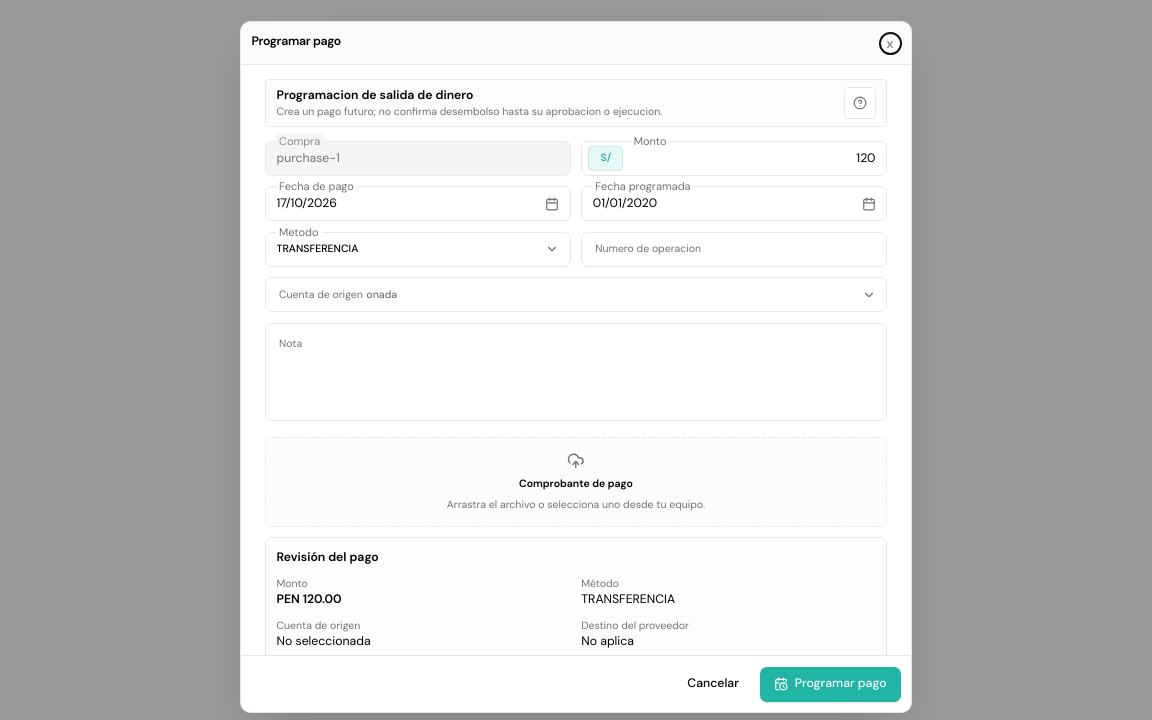
PaymentFormModal › requires a future scheduled date when scheduling a payment
Click the button "Programar pago" at (830, 684), box [760,666,900,702]
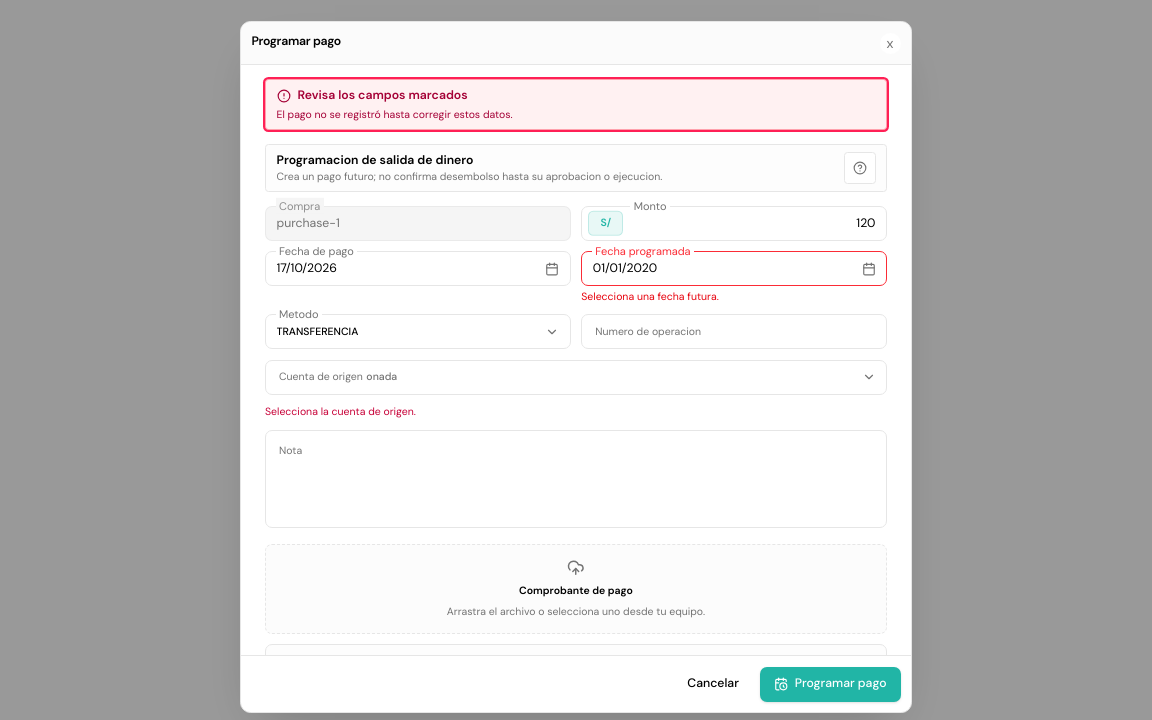
Expected: the text "Selecciona una fecha futura." is shown, [581,290,719,302]
